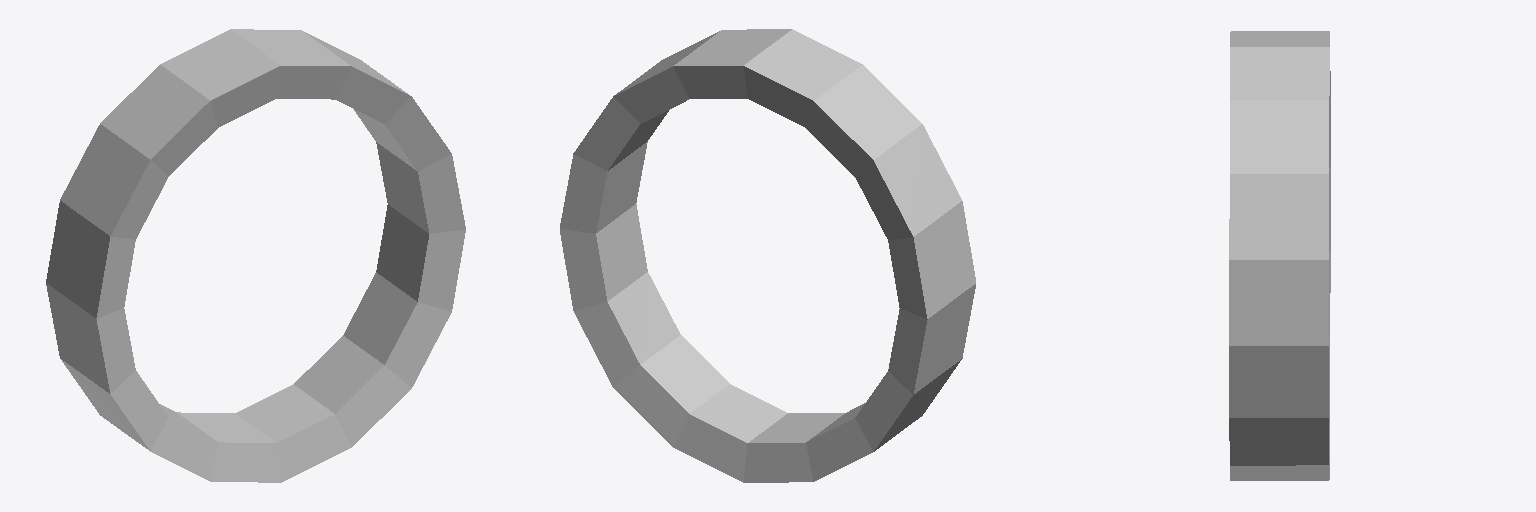
File: DynamoAnilloInt.obj
The picture shows the model from 3 angles: view 1: azimuth 30°, elevation 25°; view 2: azimuth 150°, elevation 25°; view 3: azimuth 270°, elevation 25°; orthographic projection.
Visible parts, largest first — view 1: Sphere.012_Sphere.033; view 2: Sphere.012_Sphere.033; view 3: Sphere.012_Sphere.033.
Part boxes in pixels (x1,y1,x2,y2): Sphere.012_Sphere.033: (46, 29, 465, 482); Sphere.012_Sphere.033: (560, 29, 975, 482); Sphere.012_Sphere.033: (1229, 31, 1330, 480).
Bounding box in the file's own units: 1.66 × 1.79 × 0.3933.